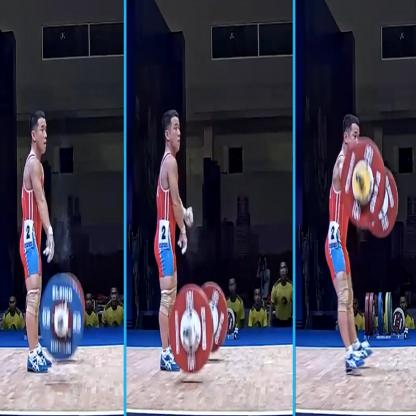Barbell: (34, 261, 89, 365), (338, 124, 389, 235), (166, 281, 219, 380)
